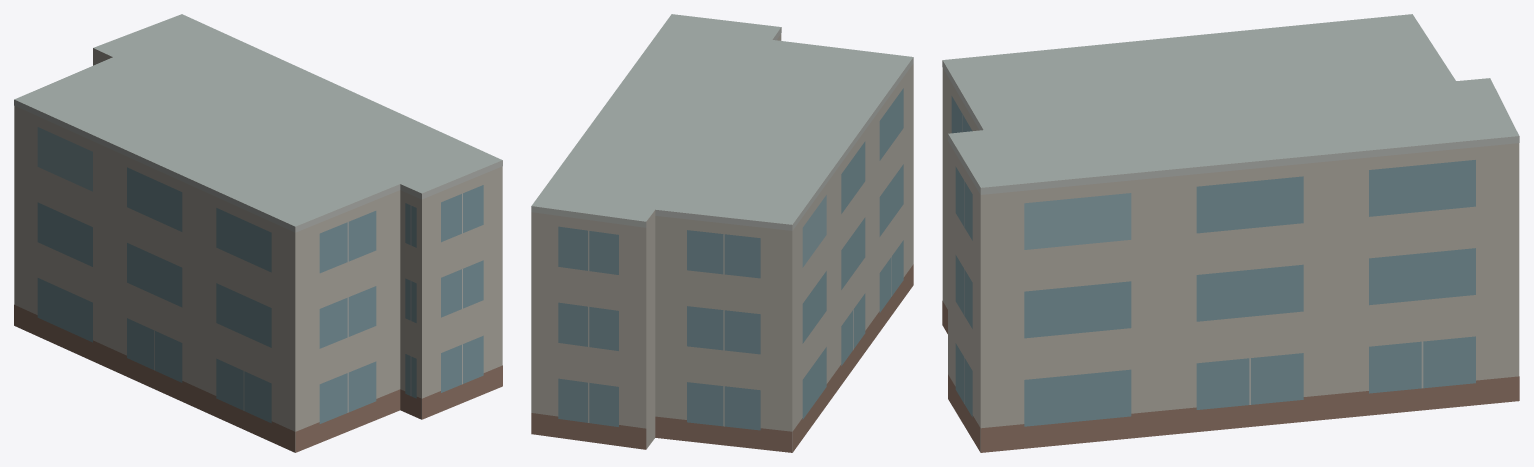
The model's file is survey-upis-32688507.glb.
3 renders of one model, left to right at view 1: azimuth 30°, elevation 25°; view 2: azimuth 150°, elevation 25°; view 3: azimuth 270°, elevation 25°, orthographic. The views are drawn at different scales.
Visible parts, largest first — view 1: survey-upis-32688507.tmp; view 2: survey-upis-32688507.tmp; view 3: survey-upis-32688507.tmp.
Part boxes in pixels (left/top/right/bottom): survey-upis-32688507.tmp: left=14, top=14, right=502, bottom=452; survey-upis-32688507.tmp: left=531, top=14, right=913, bottom=452; survey-upis-32688507.tmp: left=942, top=14, right=1519, bottom=452.
Size of the model in its own units: 12.89 by 9.15 by 18.07.
